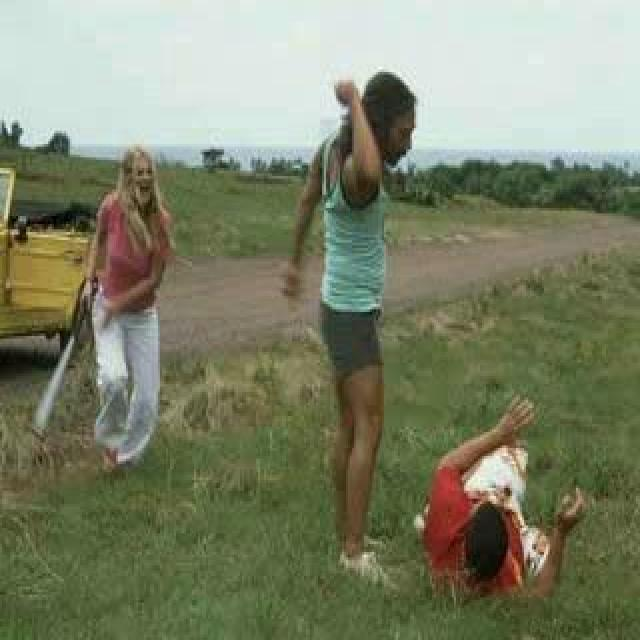fight: (273, 58, 599, 634), (26, 134, 192, 487)
